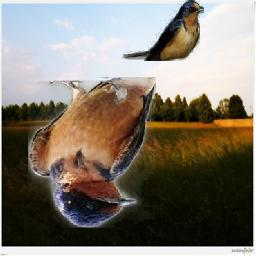Swallow: (28, 78, 156, 229), (122, 0, 204, 61)
